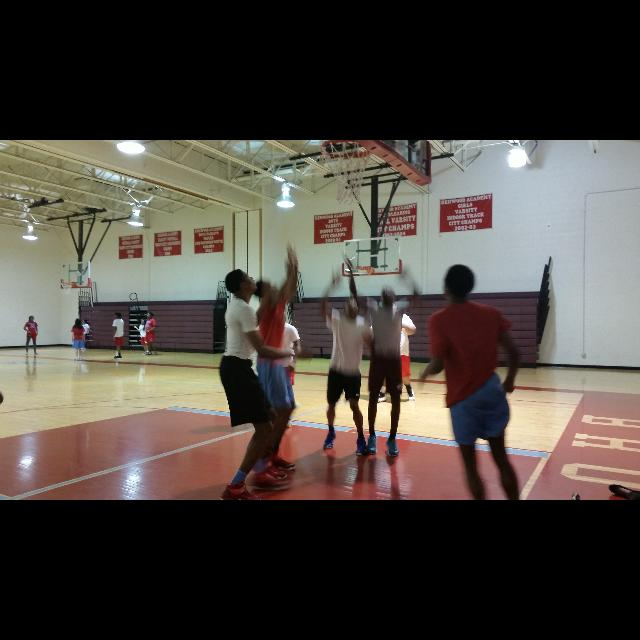head: (444, 264, 476, 300), (225, 270, 258, 294), (253, 281, 277, 299), (344, 298, 360, 318), (381, 290, 395, 306), (384, 296, 398, 310), (274, 308, 284, 322), (274, 312, 286, 322), (146, 312, 154, 320), (75, 318, 81, 326), (116, 313, 120, 319), (141, 320, 147, 324), (30, 316, 34, 320), (82, 320, 86, 324)
person: (339, 250, 423, 458), (244, 240, 302, 492), (318, 266, 370, 458), (250, 304, 304, 476), (368, 294, 418, 406), (264, 324, 296, 430), (70, 318, 86, 362), (23, 314, 39, 356), (132, 319, 150, 355), (112, 312, 125, 360), (145, 312, 159, 356), (78, 318, 90, 350)
